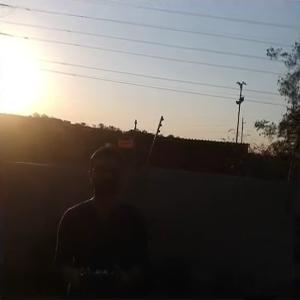follow: (50, 141, 155, 299)
